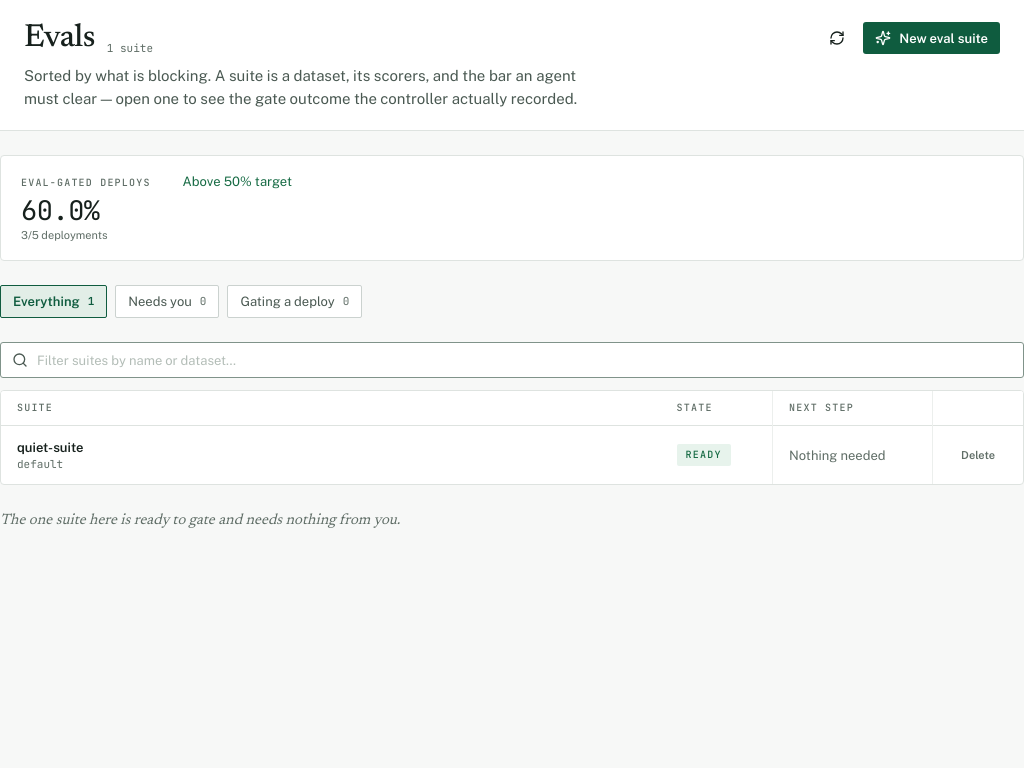
Test: EvalsPage › a chip view that matches nothing is the filtered state, not the first-run one
Expected: the element with test id "eval-suite-quiet-suite" is shown, [17,440,83,471]
Click the radio button labelled "Needs you 0" at (167, 302), box [115,285,219,318]
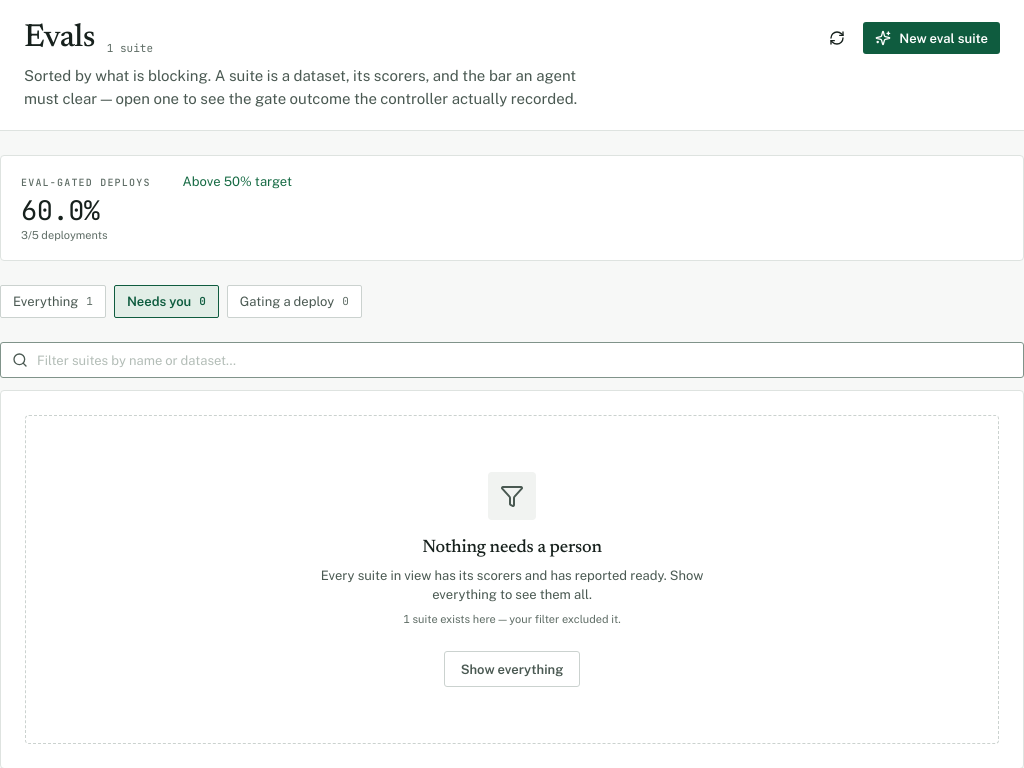
Now the heading "Nothing needs a person" is shown, box [422,536,602,560]
Now the button "Show everything" is shown, box [444,651,580,687]
